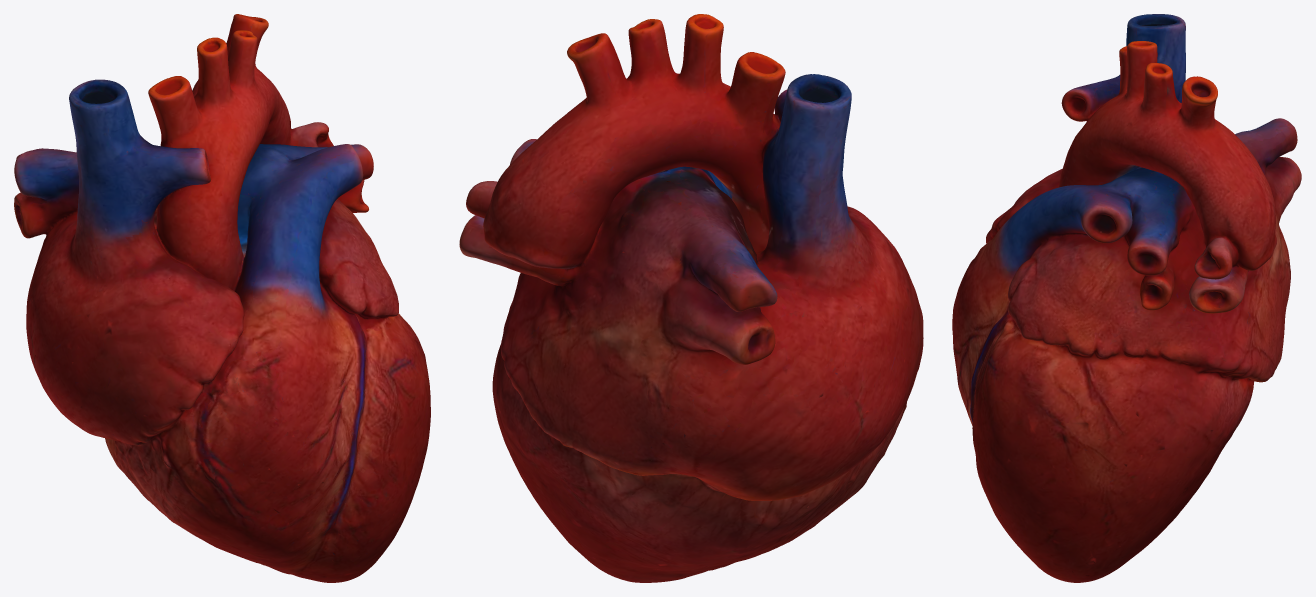
Rendered from Corazon.glb.
The picture shows the model from 3 angles, left to right: view 1: azimuth 30°, elevation 25°; view 2: azimuth 150°, elevation 25°; view 3: azimuth 270°, elevation 25°; orthographic projection. The views are drawn at different scales.
Parts seen in each view (by area): view 1: geometry_0; view 2: geometry_0; view 3: geometry_0.
Part boxes in pixels (left/top/right/bottom): geometry_0: left=14, top=14, right=430, bottom=582; geometry_0: left=459, top=14, right=923, bottom=582; geometry_0: left=952, top=14, right=1301, bottom=582.
Size of the model in its own units: 0.6657 by 1 by 0.6369.
Materials: 1 (1 with a texture image).
